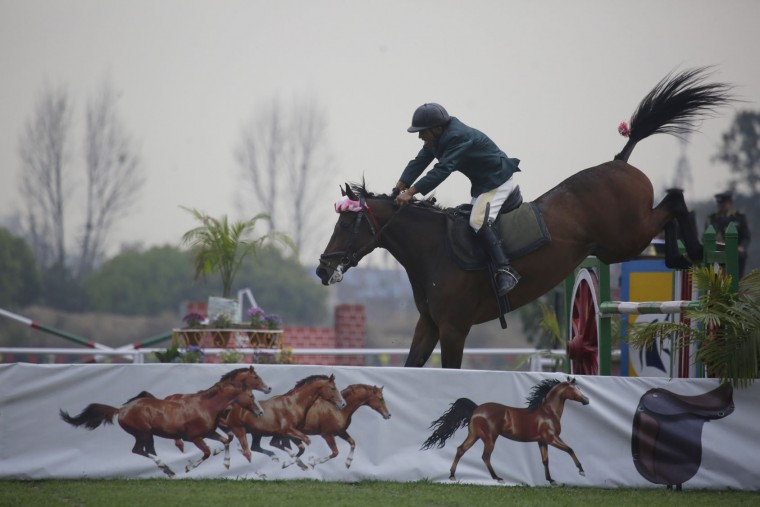human: (388, 88, 538, 302)
